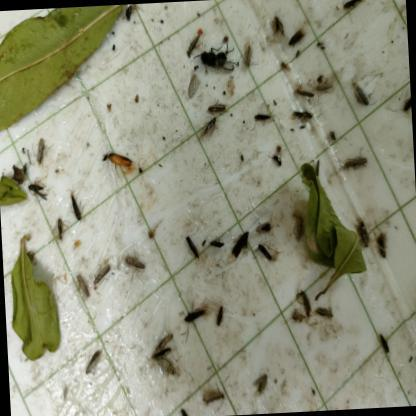prays_oleae: (144, 324, 182, 380), (197, 376, 229, 416), (76, 338, 106, 380), (26, 172, 54, 212), (349, 206, 373, 250), (370, 220, 392, 267), (64, 186, 88, 229), (293, 280, 315, 326), (182, 24, 206, 61), (340, 149, 374, 175), (255, 240, 280, 272), (228, 230, 253, 262), (316, 71, 336, 108), (211, 298, 231, 333), (29, 134, 50, 166), (314, 300, 338, 328), (203, 230, 224, 262), (250, 368, 269, 402), (182, 228, 200, 262), (240, 35, 257, 69), (354, 78, 372, 110), (338, 0, 364, 22), (294, 82, 316, 108), (199, 116, 224, 138), (266, 10, 287, 36), (74, 269, 90, 300), (399, 85, 412, 122), (294, 104, 314, 128), (288, 28, 308, 52), (181, 308, 206, 327), (124, 255, 146, 276), (254, 108, 276, 127), (90, 266, 112, 283), (204, 100, 225, 114), (178, 401, 193, 416)
